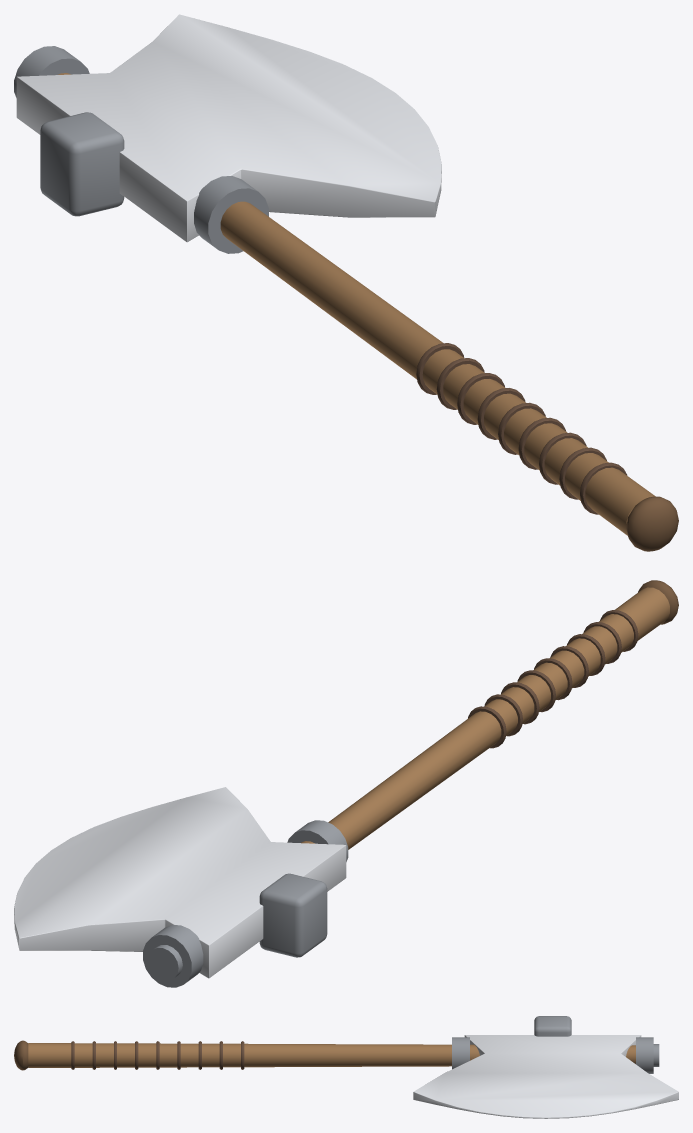
The model's file is axe.glb.
The picture shows the model from 3 angles, top to bottom: view 1: azimuth 30°, elevation 25°; view 2: azimuth 150°, elevation 25°; view 3: azimuth 270°, elevation 25°; orthographic projection. The views are drawn at different scales.
Parts seen in each view (by area): view 1: axe; view 2: axe; view 3: axe.
Part boxes in pixels (box(x1,y1,x2,y2)): axe: box(14, 14, 678, 551); axe: box(14, 580, 678, 987); axe: box(14, 1016, 678, 1118).
Bounding box in the file's own units: 0.294 × 0.062 × 0.9762.
